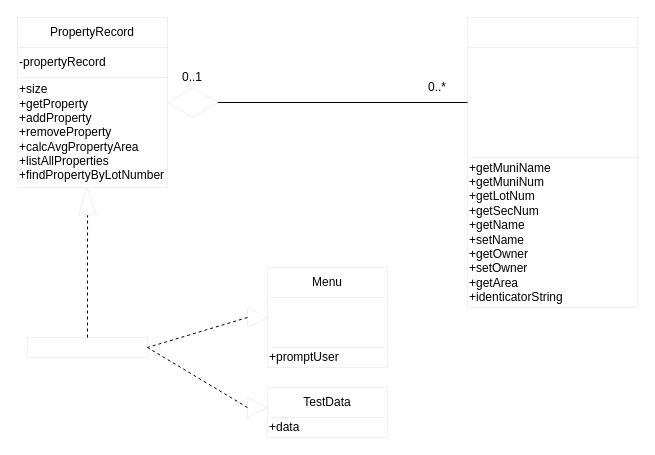
Image size: 655x455. Some labels were removed from this diagram. The centre of each missing label's shape, as x and y in pixels:
-muniName -muniNum -lotNum -secNum -name -owner -area: the point at 552,102
-scanner -question -oprtions: the point at 327,322
Property: the point at 552,32
UserClient: the point at 87,347
